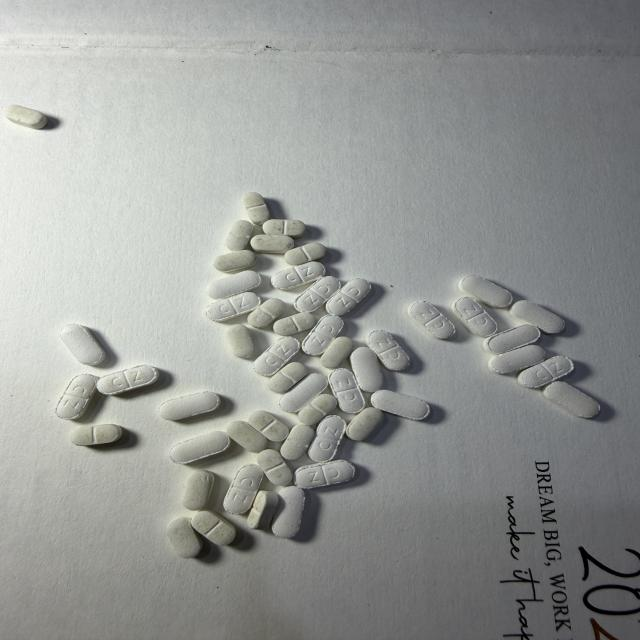pill: (169, 430, 230, 464), (544, 381, 600, 418), (224, 464, 263, 514), (56, 374, 98, 419), (61, 324, 105, 365), (97, 365, 159, 394), (254, 337, 300, 376), (518, 356, 574, 388), (280, 374, 327, 412), (408, 301, 455, 339), (510, 300, 564, 333), (371, 390, 430, 420), (367, 330, 410, 371), (453, 297, 497, 337), (308, 416, 346, 462), (272, 486, 305, 538), (159, 392, 220, 420), (294, 460, 355, 488), (459, 276, 512, 308), (488, 345, 545, 374), (483, 325, 540, 354), (294, 276, 340, 311), (303, 315, 343, 355), (207, 292, 260, 322), (326, 279, 370, 315), (329, 369, 364, 413), (271, 262, 325, 290), (191, 511, 235, 545), (350, 347, 383, 392), (166, 517, 202, 558), (208, 271, 260, 299), (257, 449, 292, 485), (280, 424, 315, 460), (227, 421, 267, 452), (248, 410, 288, 441), (183, 470, 214, 510), (247, 490, 278, 529), (298, 394, 337, 425), (347, 407, 383, 440), (268, 362, 306, 393), (248, 299, 285, 328), (71, 424, 122, 445), (3, 105, 47, 129), (321, 337, 353, 368), (273, 312, 316, 335), (214, 250, 256, 272), (284, 243, 326, 265), (227, 325, 254, 358), (243, 193, 270, 225), (263, 219, 306, 238), (251, 234, 294, 253), (226, 220, 253, 250)
